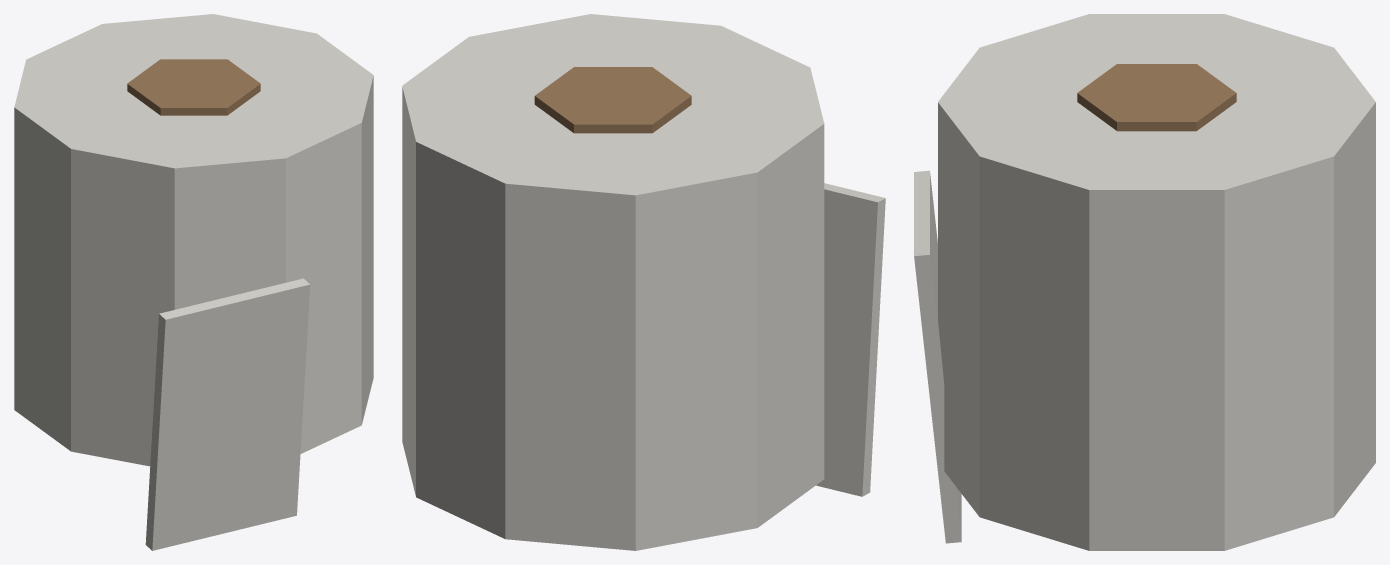
The model's file is toiletPaper.fbx.
3 views of the same model, side by side, from view 1: azimuth 30°, elevation 25°; view 2: azimuth 150°, elevation 25°; view 3: azimuth 270°, elevation 25° (orthographic). The views are drawn at different scales.
Visible parts, largest first — view 1: toiletPaper; view 2: toiletPaper; view 3: toiletPaper.
Part boxes in pixels (x1,y1,x2,y2): toiletPaper: (14, 14, 373, 550); toiletPaper: (402, 14, 885, 550); toiletPaper: (914, 14, 1375, 550).
Size of the model in its own units: 0.4185 by 0.49 by 0.4639.
